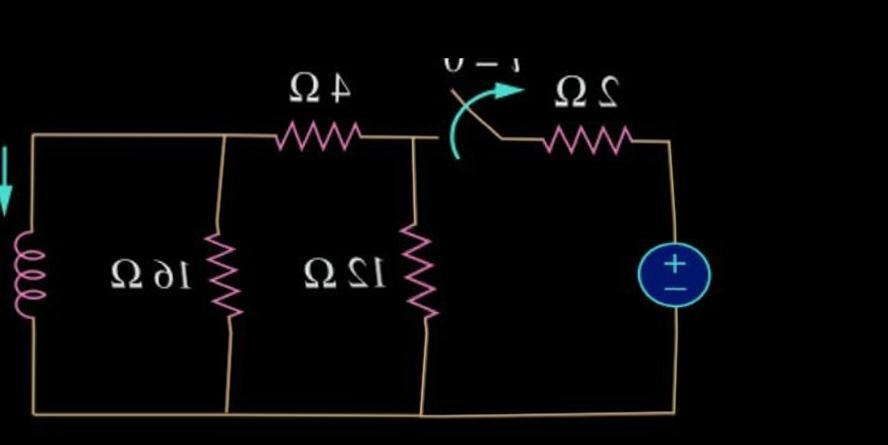Battery: (608, 214, 733, 337)
